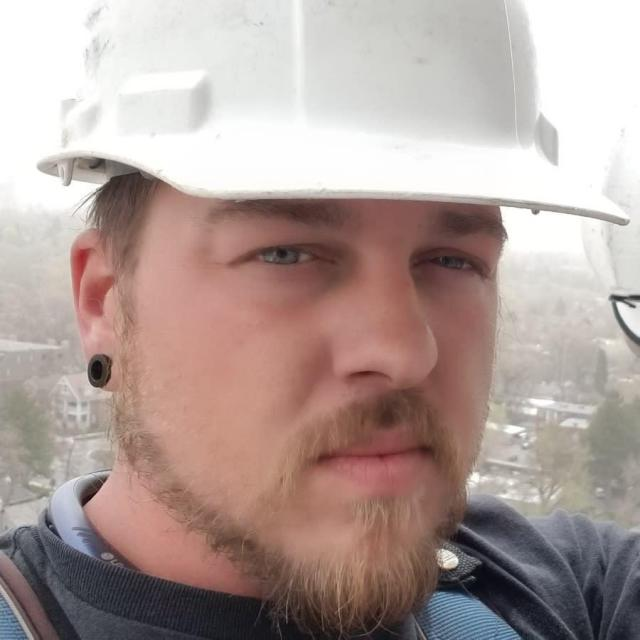hat: (36, 1, 631, 224)
